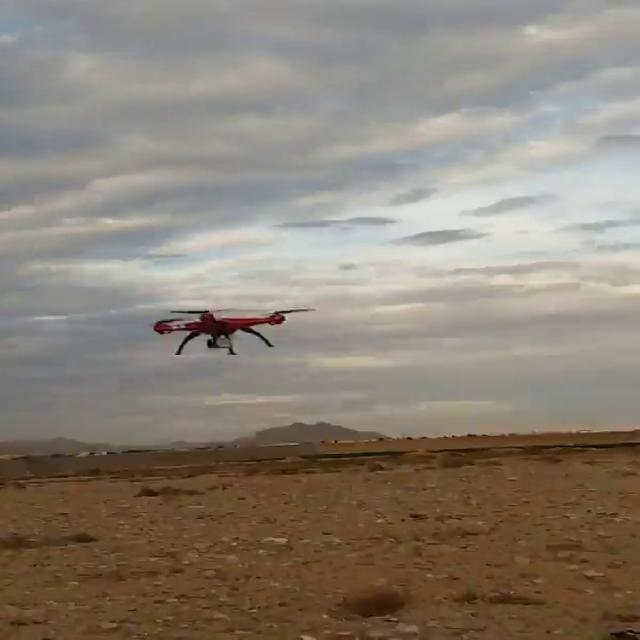drone: (145, 297, 328, 361)
